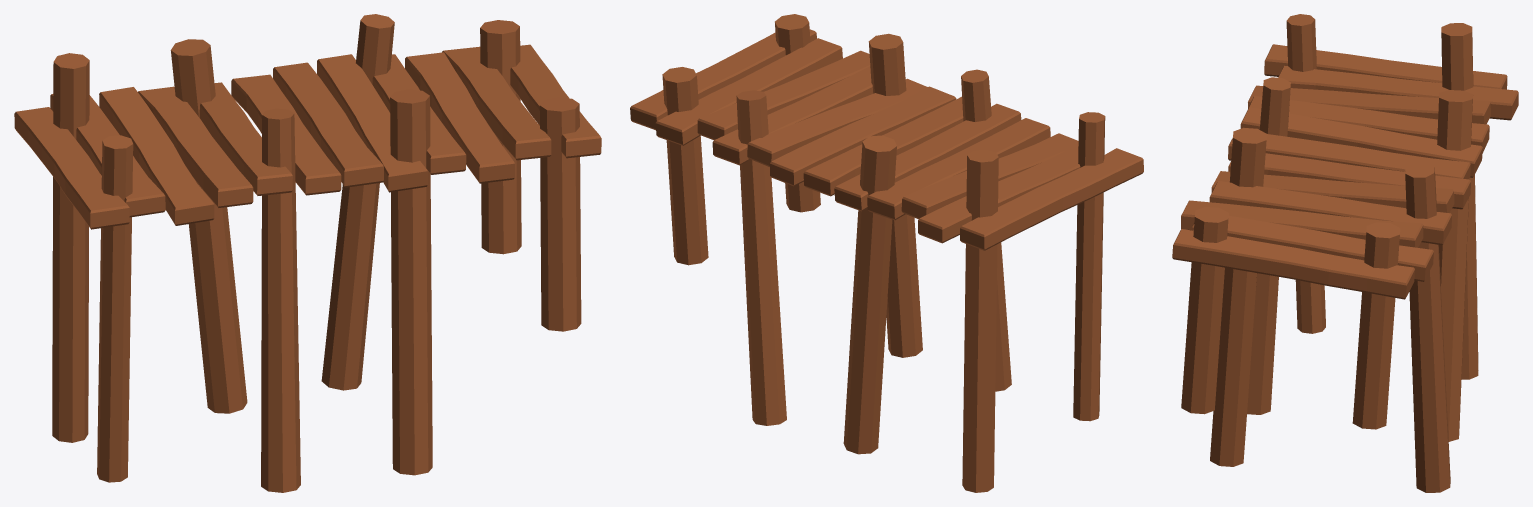
File: matou.fbx
The picture shows the model from 3 angles, left to right: view 1: azimuth 30°, elevation 25°; view 2: azimuth 150°, elevation 25°; view 3: azimuth 270°, elevation 25°; orthographic projection. The views are drawn at different scales.
Visible parts, largest first — view 1: Cylinder.006; view 2: Cylinder.006; view 3: Cylinder.006.
Boxes of the visible parts, <box> form: Cylinder.006: <box>14,14,601,492</box>; Cylinder.006: <box>630,14,1143,492</box>; Cylinder.006: <box>1172,14,1518,492</box>.
Bounding box in the file's own units: 4415 × 3092 × 2827.
